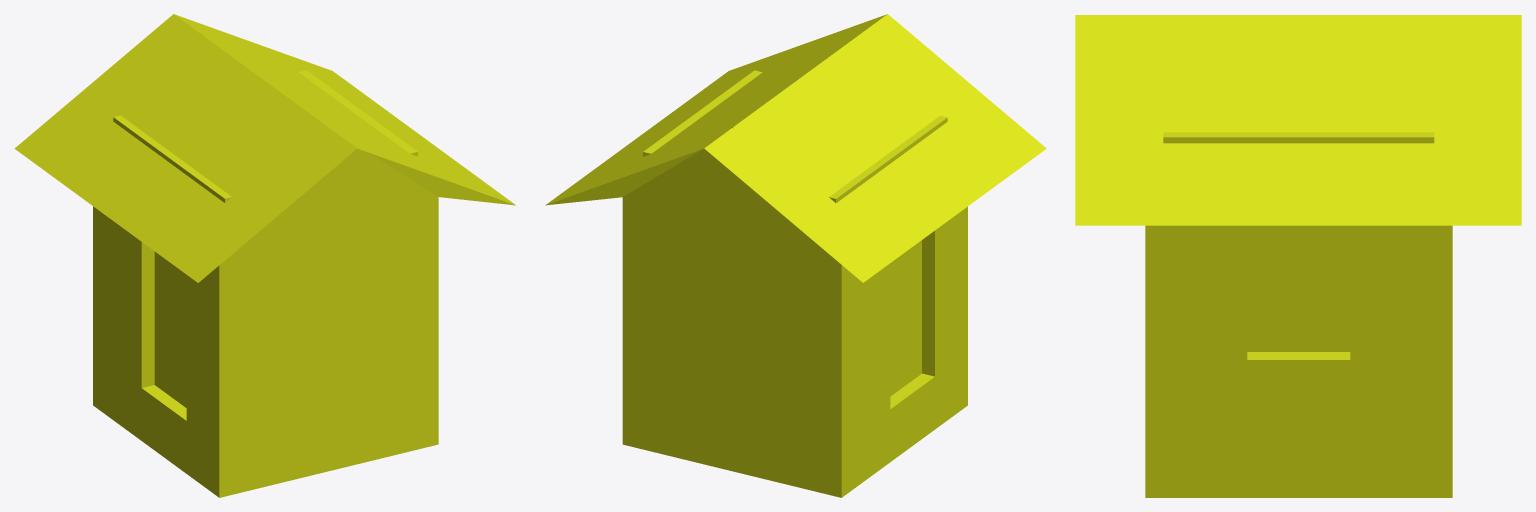
The model's file is podvalkopatycha.glb.
3 views of the same model, side by side, from view 1: azimuth 30°, elevation 25°; view 2: azimuth 150°, elevation 25°; view 3: azimuth 270°, elevation 25° (orthographic). The views are drawn at different scales.
Visible parts, largest first — view 1: Куб.001; view 2: Куб.001; view 3: Куб.001.
Part boxes in pixels (x1,y1,x2,y2): Куб.001: (14, 14, 515, 497); Куб.001: (545, 14, 1046, 497); Куб.001: (1075, 15, 1521, 497).
Bounding box in the file's own units: 8.19 × 8.48 × 8.19.
